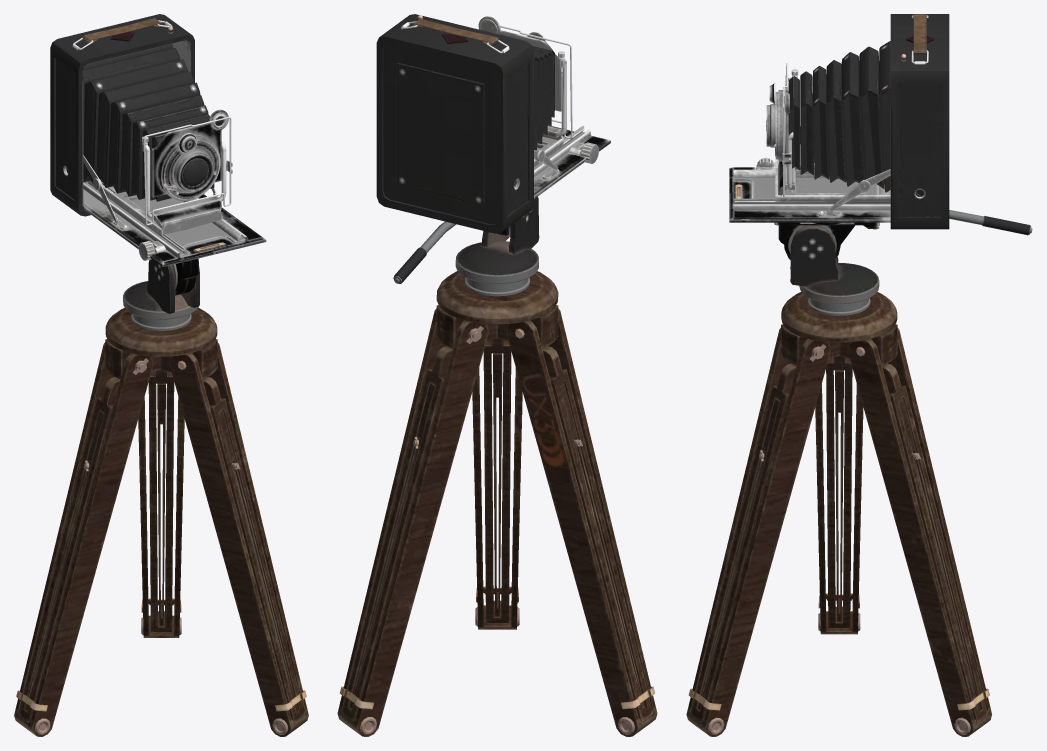
The model's file is antique_camera.glb.
3 renders of one model, left to right at view 1: azimuth 30°, elevation 25°; view 2: azimuth 150°, elevation 25°; view 3: azimuth 270°, elevation 25°, orthographic. The views are drawn at different scales.
Parts seen in each view (by area): view 1: tripod, camera; view 2: tripod, camera; view 3: tripod, camera.
Boxes of the visible parts, left/top/right/bottom form: tripod: left=14, top=258, right=308, bottom=736; camera: left=50, top=14, right=266, bottom=266; tripod: left=337, top=196, right=657, bottom=736; camera: left=376, top=14, right=610, bottom=233; tripod: left=686, top=210, right=1032, bottom=736; camera: left=729, top=14, right=949, bottom=229.
Bounding box in the file's own units: 2.6 × 7.21 × 3.39.
Materials: 2 (2 with a texture image).
